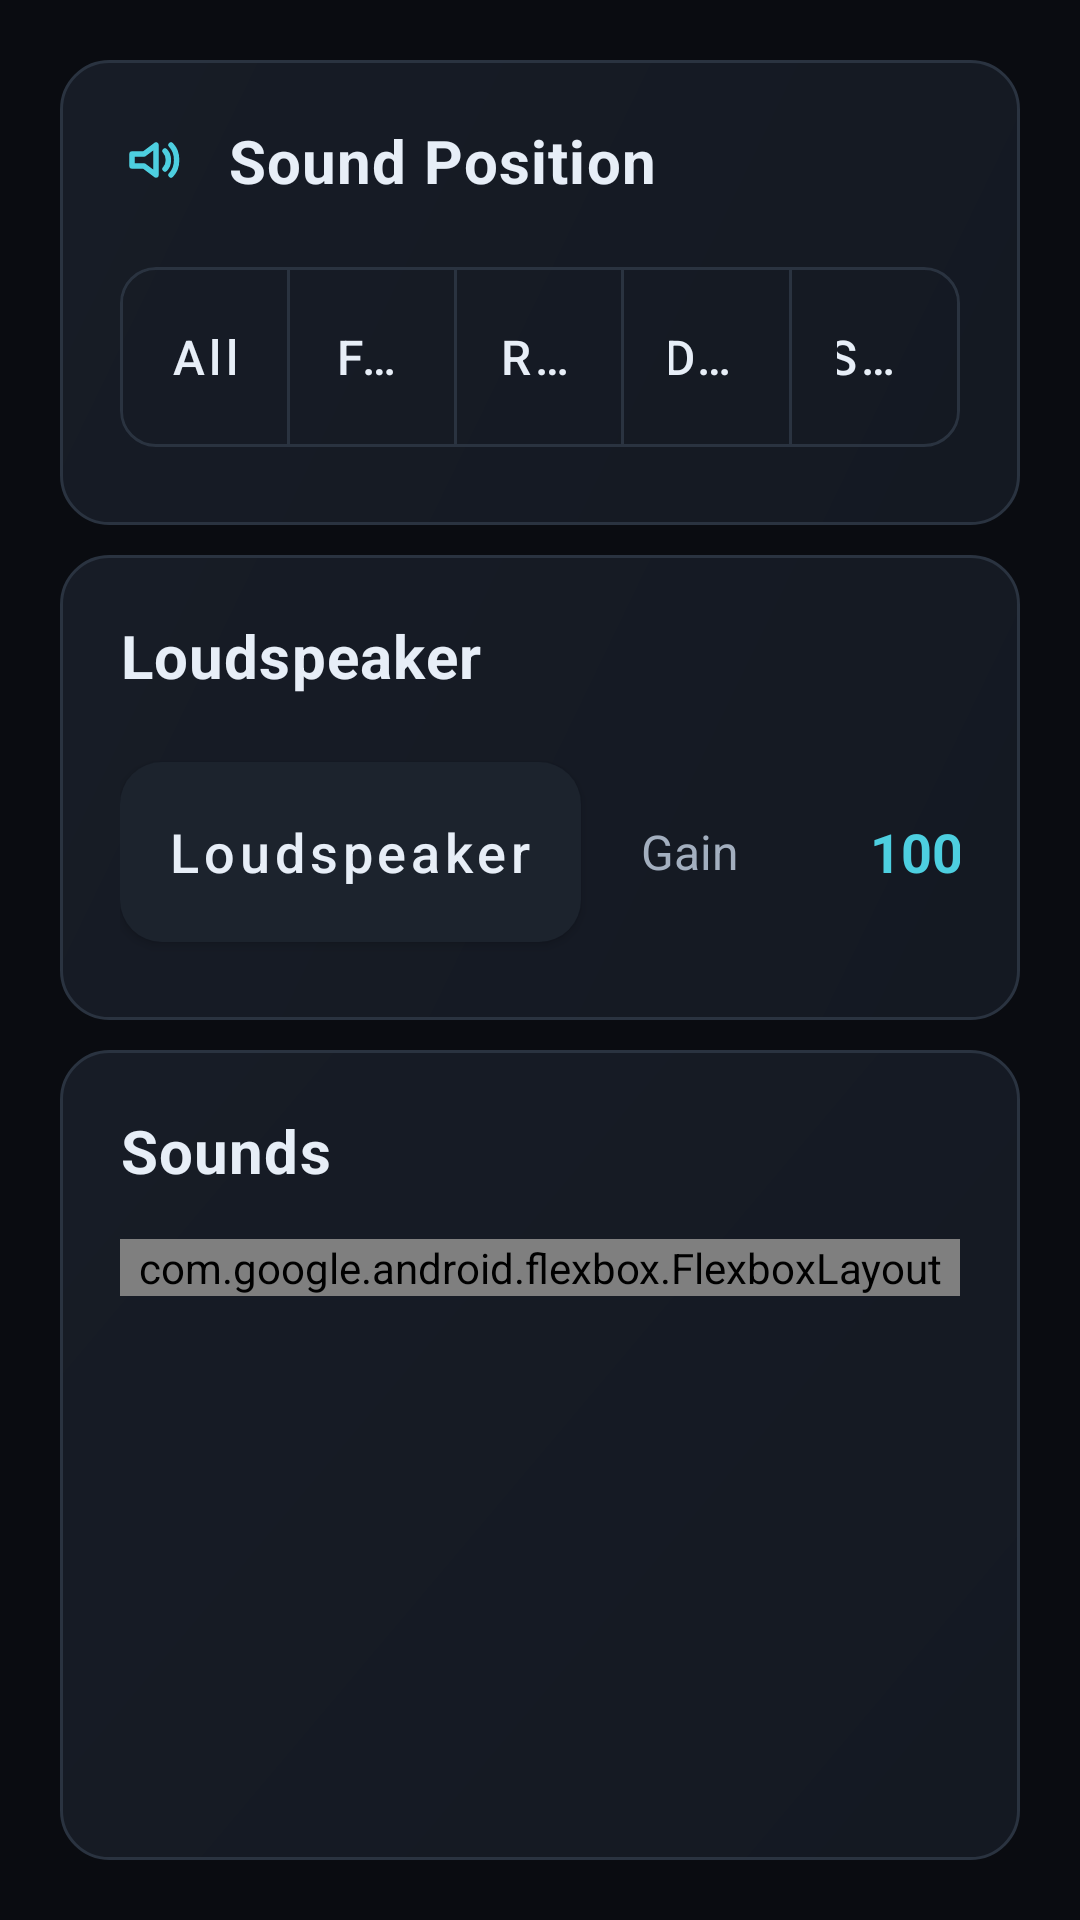

Screen size 1080 × 1920. Icon name, then its center in pixels as (x=x, y=y):
section sound: (x=154, y=160)
